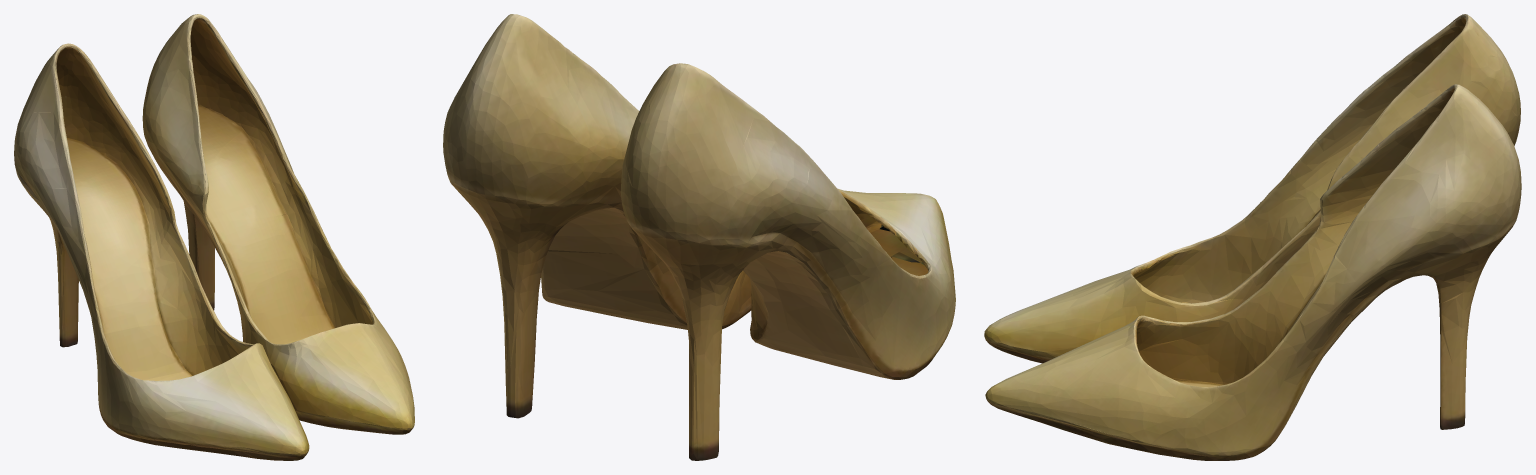
File: shoes_heel_beige_pair.glb
3 renders of one model, left to right at view 1: azimuth 30°, elevation 25°; view 2: azimuth 150°, elevation 25°; view 3: azimuth 270°, elevation 25°, orthographic. The views are drawn at different scales.
Parts seen in each view (by area): view 1: geometry_0; view 2: geometry_0; view 3: geometry_0.
Boxes of the visible parts, x1,y1,x2,y2 form: geometry_0: (14,14,414,460); geometry_0: (443,14,955,460); geometry_0: (984,14,1521,460).
Bounding box in the file's own units: 0.6702 × 0.6947 × 0.9993.
1 material, 1 textured.
